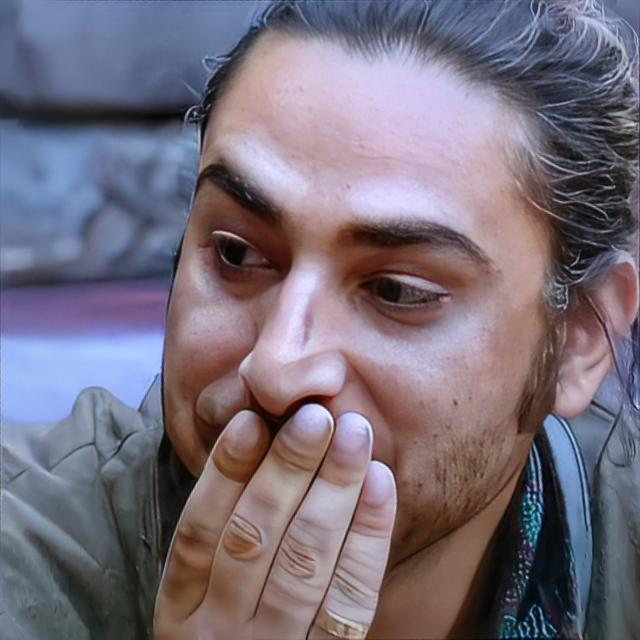disgust: (158, 4, 554, 584)
